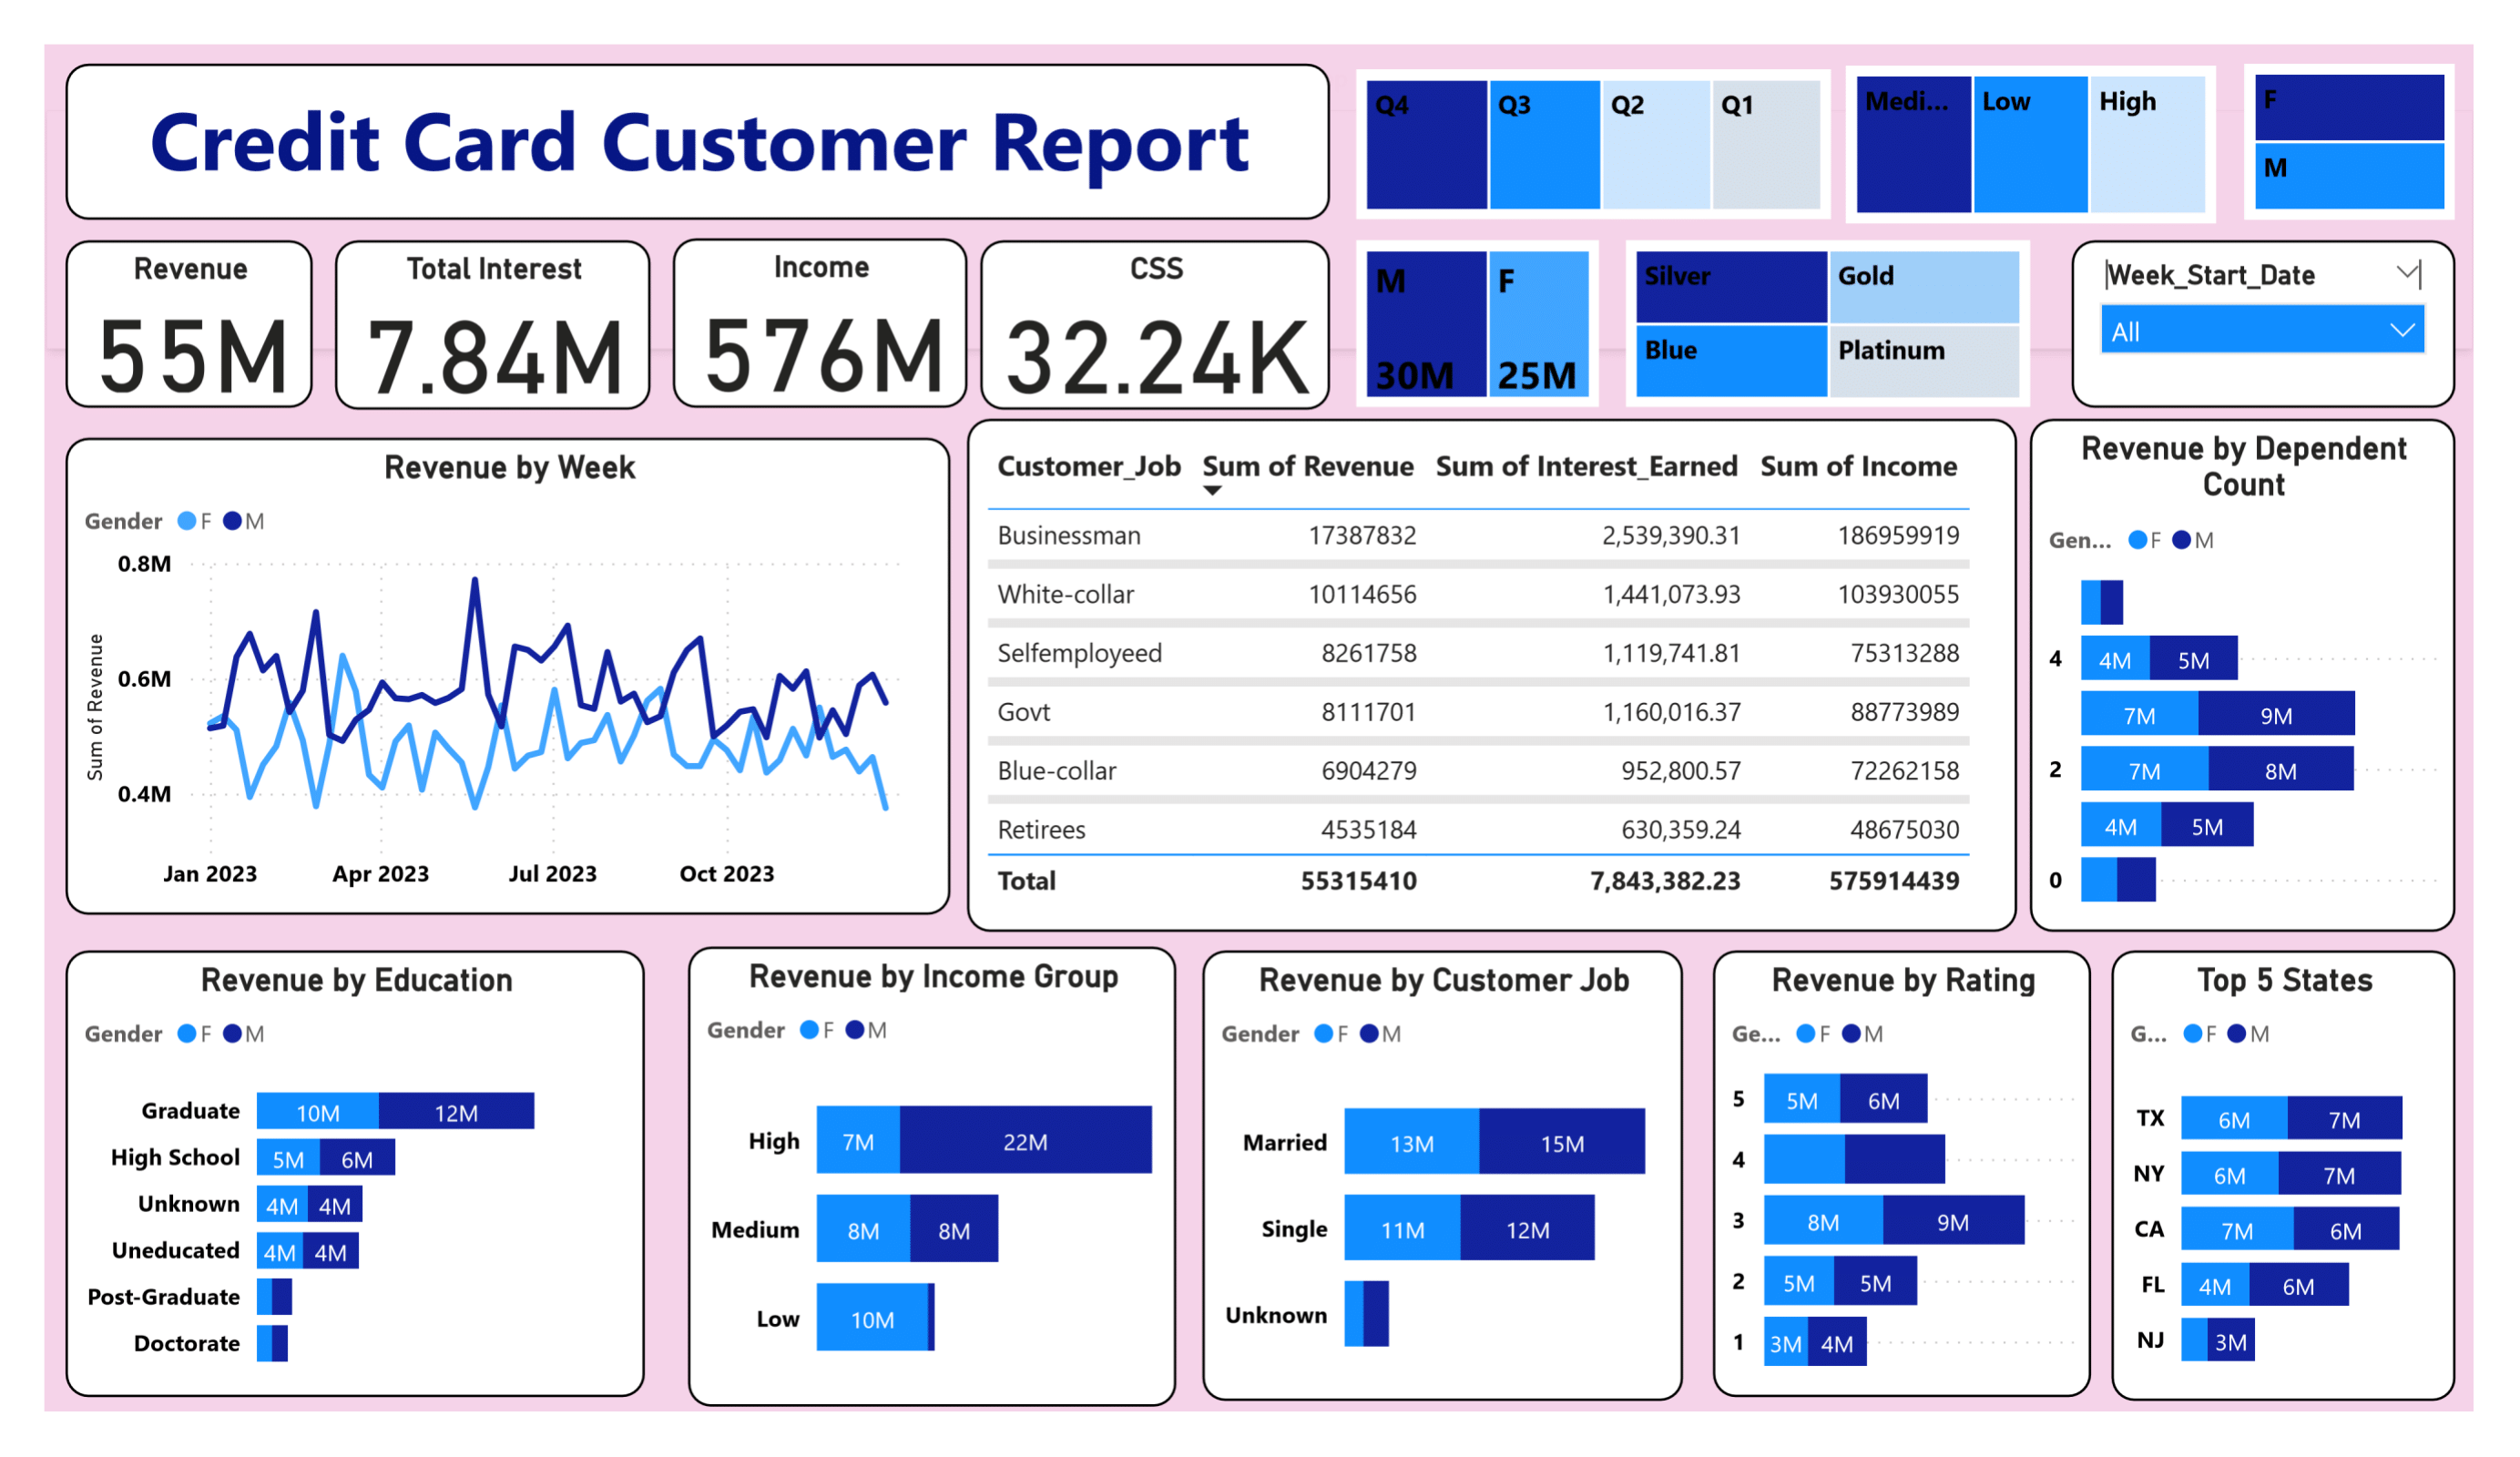

The dashboard page shown, as its layout file describes it:
{"tool":"powerbi","page":{"name":"Credit_Card_Customer_Report","canvas":[1280,720],"ordinal":1},"visuals":[{"type":"textbox","box":[11.1,9.5,666,82.6],"z":0},{"type":"barChart","title":"Revenue by Education ","fields":{"Y":["Sum(credit_card.Revenue)"],"Series":["customer.Gender"],"Category":["customer.Education_Level"]},"box":[11.1,476.8,305.2,235.2],"z":1000},{"type":"tableEx","fields":{"Values":["customer.Customer_Job","Sum(credit_card.Revenue)","Sum(credit_card.Interest_Earned)","Sum(customer.Income)"]},"box":[486.4,197.1,553.1,270.2],"z":2000},{"type":"card","title":"Revenue","fields":{"Values":["Sum(credit_card.Revenue)"]},"box":[11.1,103.3,130.3,87.4],"z":3000},{"type":"card","title":"Income","fields":{"Values":["Sum(customer.Income)"]},"box":[330.6,101.7,155.8,89],"z":4000},{"type":"card","title":"Total Interest","fields":{"Values":["Sum(credit_card.Interest_Earned)"]},"box":[152.6,103.3,166.9,89],"z":5000},{"type":"card","title":"CSS","fields":{"Values":["Sum(customer.Cust_Satisfaction_Score)"]},"box":[492.7,103.3,184.4,89],"z":6000},{"type":"slicer","fields":{"Values":["credit_card.Week_Start_Date"]},"box":[1068.1,103.3,201.9,87.4],"z":7000},{"type":"treemap","fields":{"Group":["credit_card.Qtr"],"Values":["Avg(credit_card.Client_Num)"]},"box":[691.4,12.7,249.5,79.5],"z":8000},{"type":"treemap","fields":{"Group":["customer.IncomeGroup"],"Values":["Avg(credit_card.Client_Num)"]},"box":[948.9,11.1,195.5,82.6],"z":9000},{"type":"treemap","fields":{"Values":["Avg(credit_card.Client_Num)"],"Group":["credit_card.Card_Category"]},"box":[832.8,103.3,213,87.4],"z":10000},{"type":"treemap","fields":{"Values":["Avg(credit_card.Client_Num)"],"Group":["customer.Gender"]},"box":[1158.7,9.5,111.3,82.6],"z":11000},{"type":"lineChart","title":"Revenue by Week","fields":{"Y":["Sum(credit_card.Revenue)"],"Category":["credit_card.Week_Start_Date.Variation.Date Hierarchy.Year","credit_card.Week_Start_Date.Variation.Date Hierarchy.Month","credit_card.Week_Start_Date.Variation.Date Hierarchy.Day"],"Series":["customer.Gender"]},"box":[11.1,206.6,465.7,251.1],"z":12000},{"type":"treemap","fields":{"Group":["customer.Gender"],"Values":["Sum(credit_card.Revenue)"]},"box":[691.4,103.3,127.2,87.4],"z":13000},{"type":"barChart","title":"Revenue by Income Group","fields":{"Category":["customer.IncomeGroup"],"Y":["Sum(credit_card.Revenue)"],"Series":["customer.Gender"]},"box":[338.5,475.2,257.5,241.6],"z":14000},{"type":"barChart","title":"Revenue by Customer Job","fields":{"Y":["Sum(credit_card.Revenue)"],"Category":["customer.Marital_Status"],"Series":["customer.Gender"]},"box":[610.3,476.8,252.7,236.8],"z":15000},{"type":"barChart","title":"Top 5 States","fields":{"Y":["Sum(credit_card.Revenue)"],"Series":["customer.Gender"],"Category":["customer.state_cd"]},"box":[1088.7,476.8,181.2,236.8],"z":16000},{"type":"barChart","title":"Revenue by Rating","fields":{"Y":["Sum(credit_card.Revenue)"],"Category":["customer.Cust_Satisfaction_Score"],"Series":["customer.Gender"]},"box":[878.9,476.8,198.7,235.2],"z":17000},{"type":"barChart","title":"Revenue by Dependent Count","fields":{"Y":["Sum(credit_card.Revenue)"],"Category":["customer.Dependent_Count"],"Series":["customer.Gender"]},"box":[1045.8,197.1,224.1,270.2],"z":18000}]}

Visuals, with their boxes in screenshot pixels (x1, y1, x2, y2):
textbox: {"x1": 66, "y1": 64, "x2": 1331, "y2": 220}
"Revenue by Education " barChart: {"x1": 66, "y1": 950, "x2": 646, "y2": 1396}
tableEx - customer.Customer_Job x Sum(credit_card.Revenue): {"x1": 968, "y1": 420, "x2": 2018, "y2": 932}
"Revenue" card: {"x1": 66, "y1": 241, "x2": 314, "y2": 407}
"Income" card: {"x1": 673, "y1": 239, "x2": 968, "y2": 407}
"Total Interest" card: {"x1": 335, "y1": 241, "x2": 652, "y2": 411}
"CSS" card: {"x1": 981, "y1": 241, "x2": 1331, "y2": 411}
slicer - credit_card.Week_Start_Date: {"x1": 2072, "y1": 241, "x2": 2455, "y2": 407}
treemap - credit_card.Qtr x Avg(credit_card.Client_Num): {"x1": 1358, "y1": 69, "x2": 1831, "y2": 220}
treemap - customer.IncomeGroup x Avg(credit_card.Client_Num): {"x1": 1846, "y1": 66, "x2": 2217, "y2": 223}
treemap - Avg(credit_card.Client_Num) x credit_card.Card_Category: {"x1": 1626, "y1": 241, "x2": 2030, "y2": 407}
treemap - Avg(credit_card.Client_Num) x customer.Gender: {"x1": 2244, "y1": 64, "x2": 2455, "y2": 220}
"Revenue by Week" lineChart: {"x1": 66, "y1": 437, "x2": 950, "y2": 914}
treemap - customer.Gender x Sum(credit_card.Revenue): {"x1": 1358, "y1": 241, "x2": 1599, "y2": 407}
"Revenue by Income Group" barChart: {"x1": 688, "y1": 947, "x2": 1177, "y2": 1405}
"Revenue by Customer Job" barChart: {"x1": 1204, "y1": 950, "x2": 1683, "y2": 1400}
"Top 5 States" barChart: {"x1": 2111, "y1": 950, "x2": 2455, "y2": 1400}
"Revenue by Rating" barChart: {"x1": 1713, "y1": 950, "x2": 2090, "y2": 1396}
"Revenue by Dependent Count" barChart: {"x1": 2030, "y1": 420, "x2": 2455, "y2": 932}
